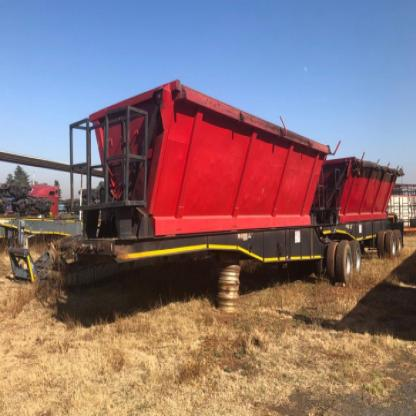dump_truck: (55, 81, 413, 279)
